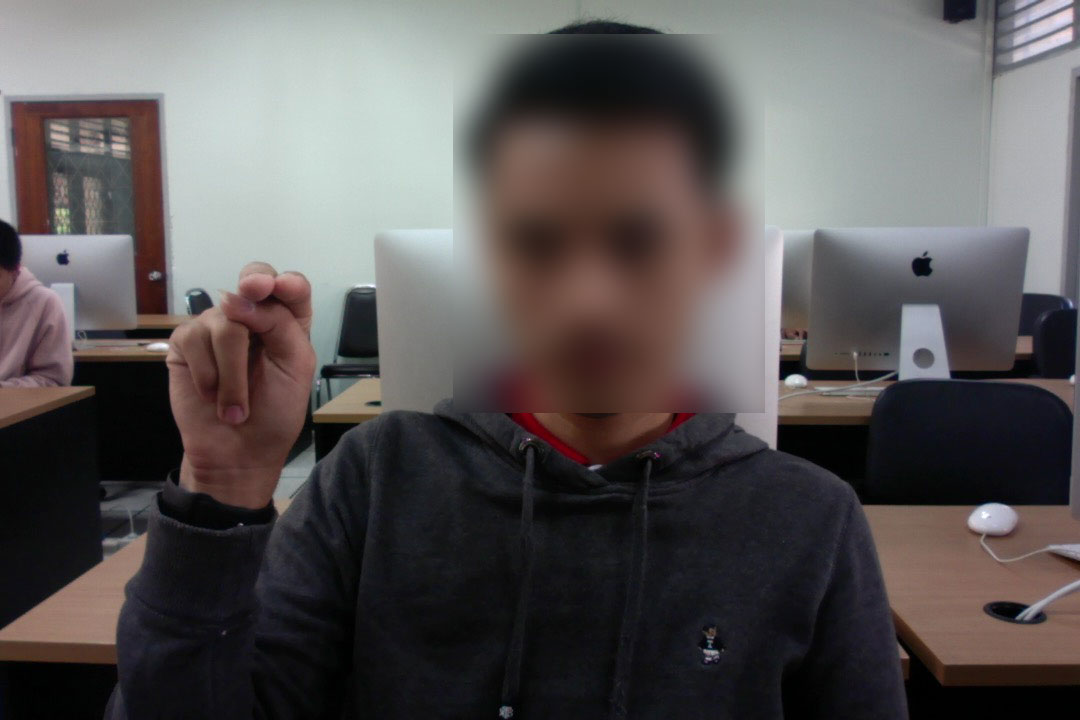nor: (160, 257, 318, 495)
